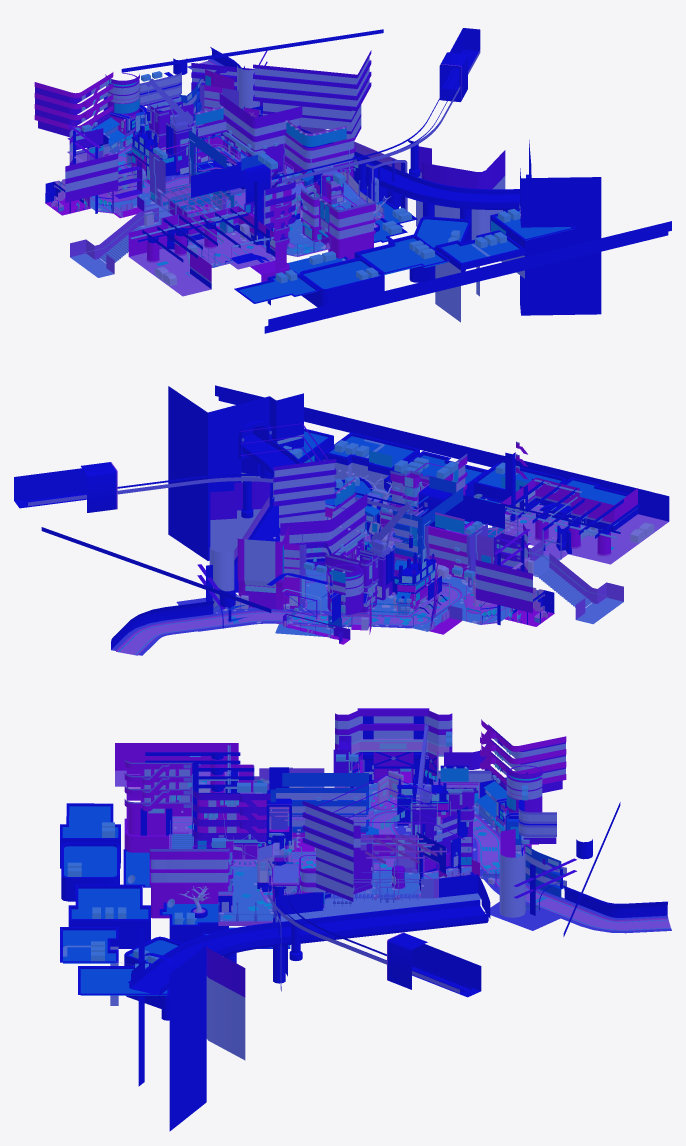
The model's file is neo_tokyo.gltf.
3 renders of one model, top to bottom at view 1: azimuth 30°, elevation 25°; view 2: azimuth 150°, elevation 25°; view 3: azimuth 270°, elevation 25°, orthographic. The views are drawn at different scales.
Size of the model in its own units: 23.26 by 9.42 by 24.49.
